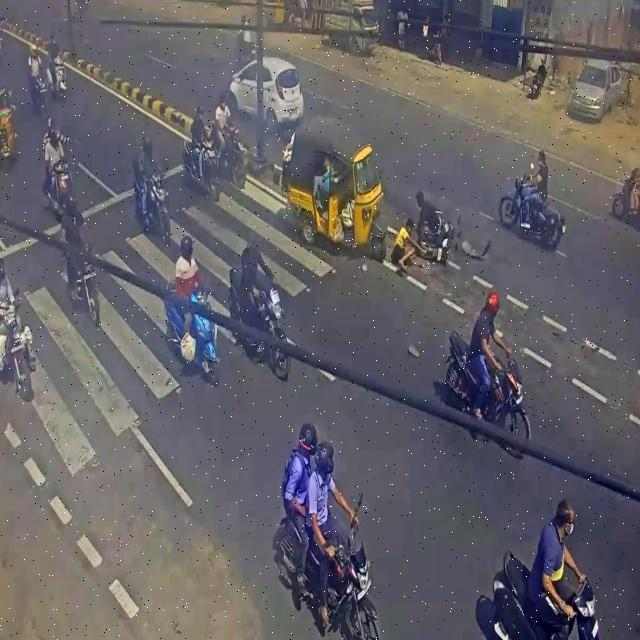accident: (281, 117, 495, 292)
